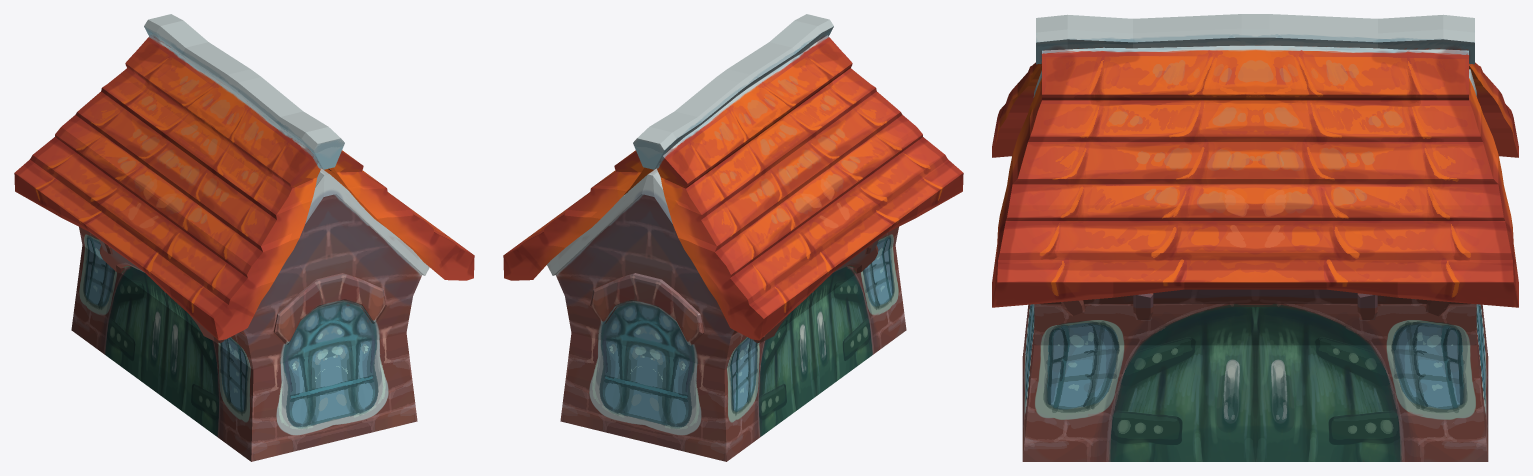
Rendered from Empty_Textured.fbx.
3 views of the same model, side by side, from view 1: azimuth 30°, elevation 25°; view 2: azimuth 150°, elevation 25°; view 3: azimuth 270°, elevation 25° (orthographic). The views are drawn at different scales.
Parts seen in each view (by area): view 1: House_Roof, House_Base; view 2: House_Roof, House_Base; view 3: House_Roof, House_Base.
Part boxes in pixels (x1,y1,x2,y2): House_Roof: (14, 14, 474, 340); House_Base: (71, 168, 429, 461); House_Roof: (503, 14, 963, 340); House_Base: (547, 168, 906, 461); House_Roof: (992, 14, 1518, 307); House_Base: (1022, 69, 1488, 461).
Bounding box in the file's own units: 167 × 183 × 225.
2 materials, 2 textured.
